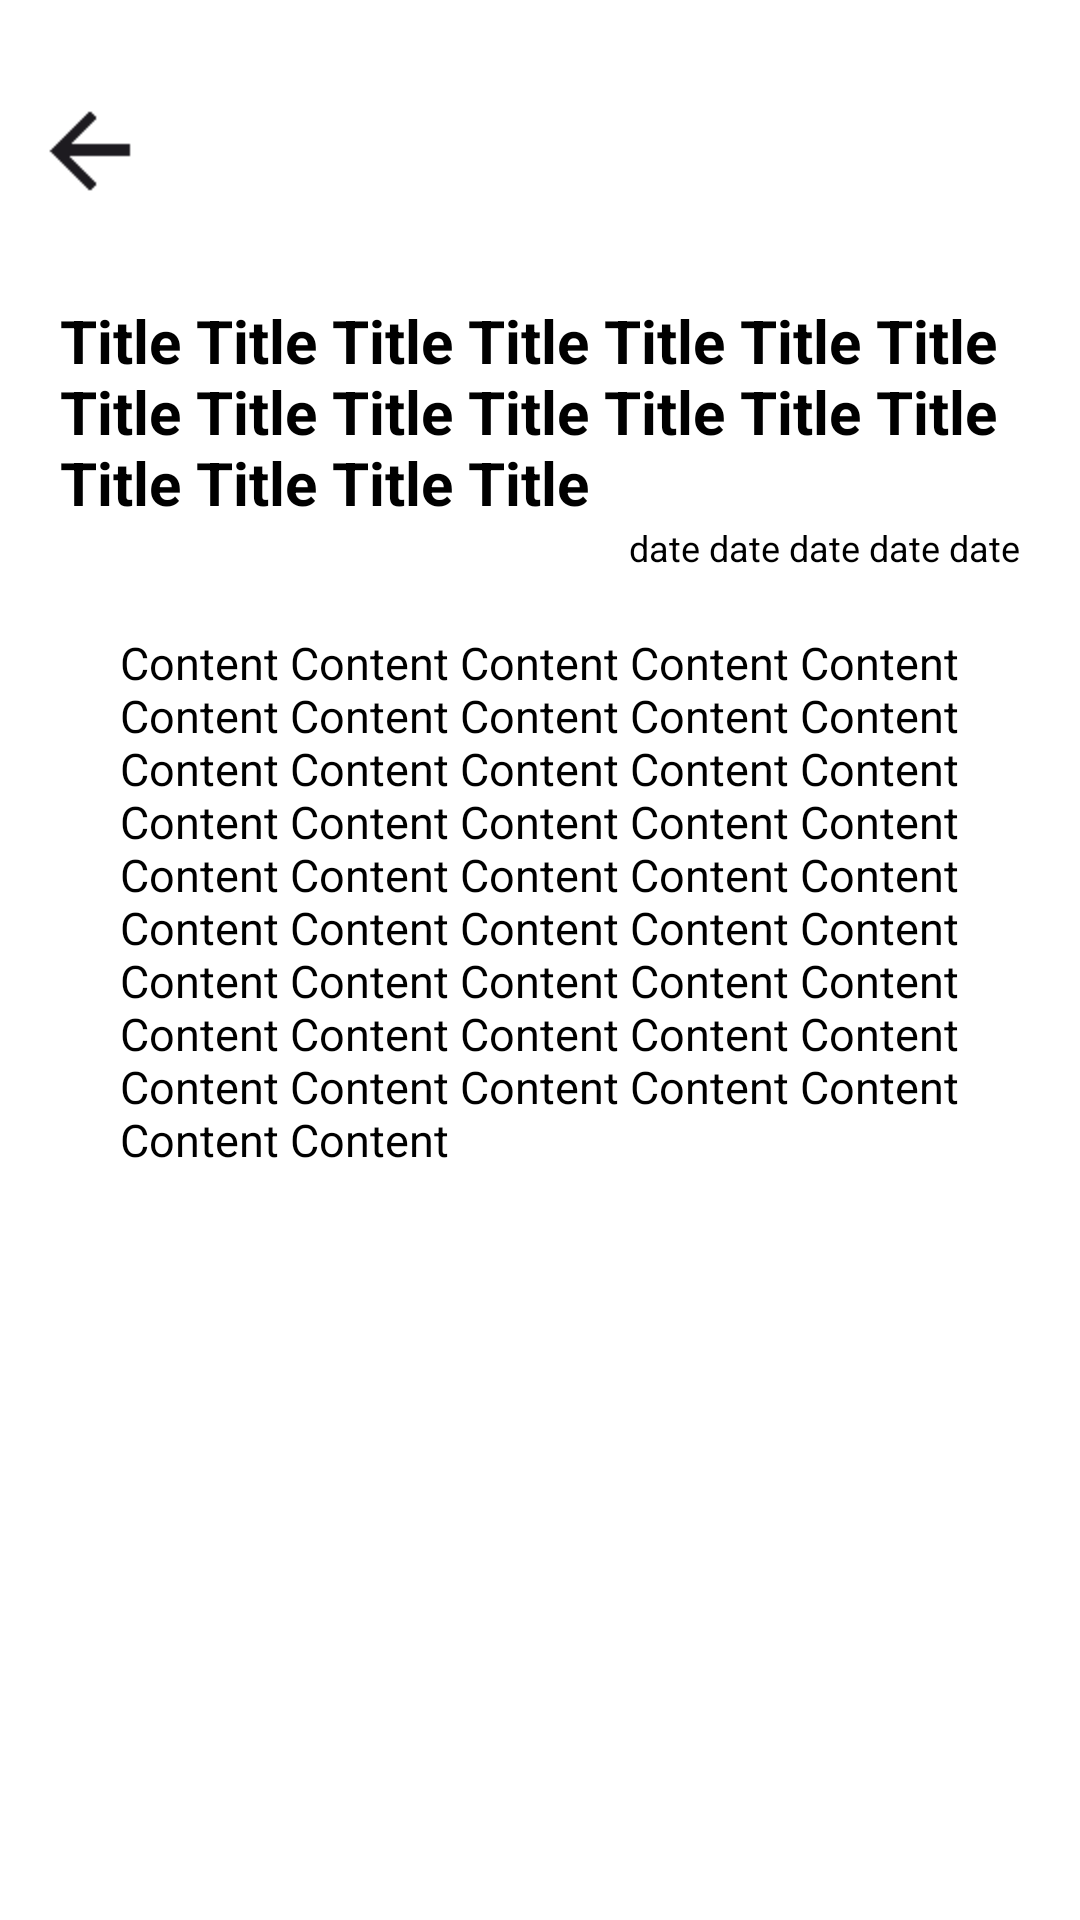

Icons on this 1080w x 1920h Android screen, each with its box as (x1, y1, x2, y2):
arrow left: (49, 111, 131, 191)
